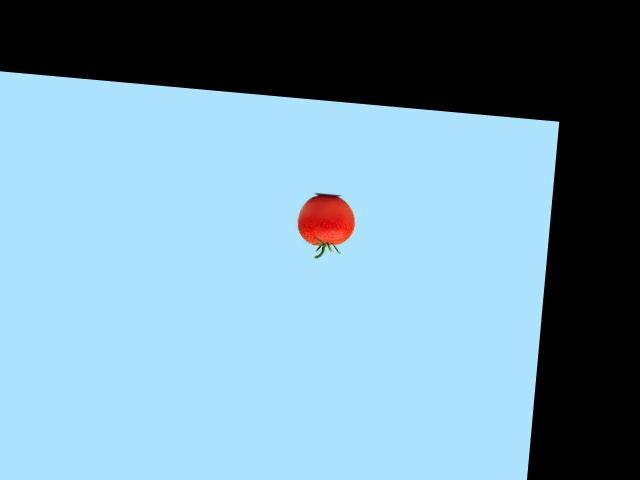tomato: (296, 193, 357, 247)
